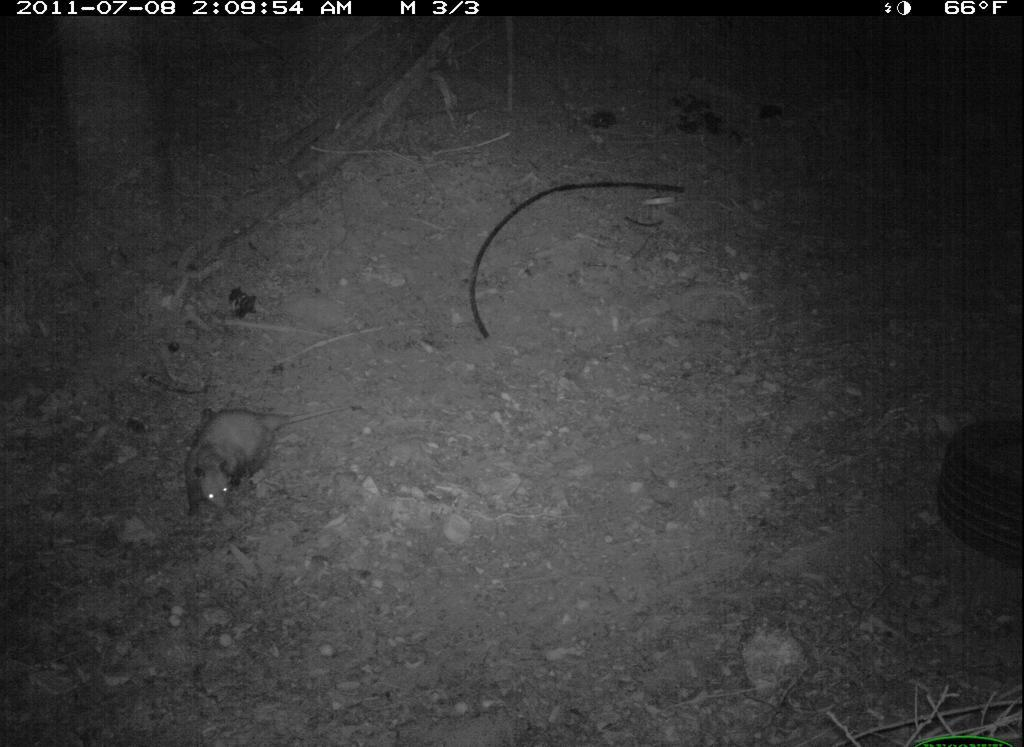opossum: (178, 395, 365, 524)
